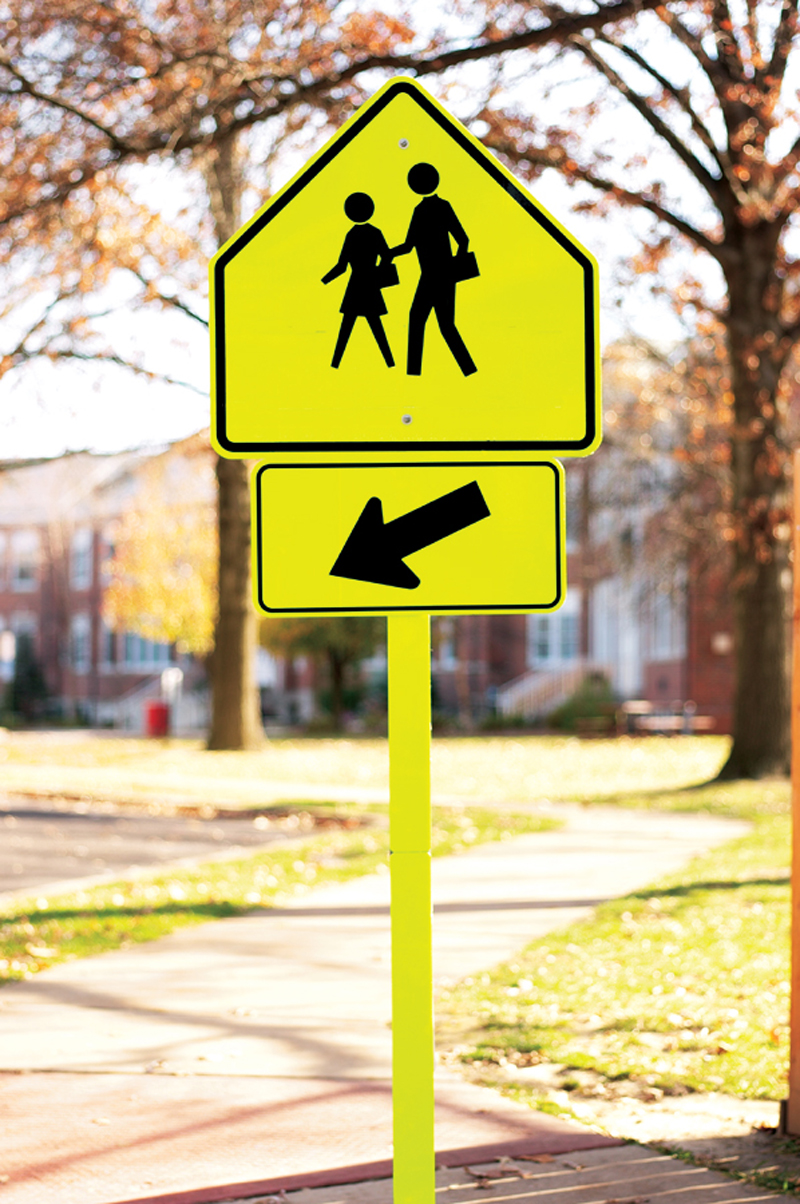slow: (206, 79, 618, 466)
